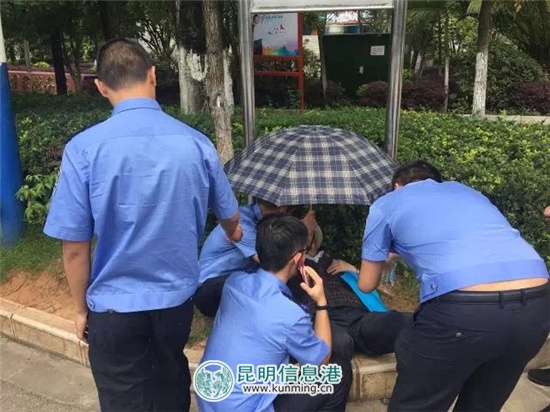falling: (288, 227, 426, 397)
